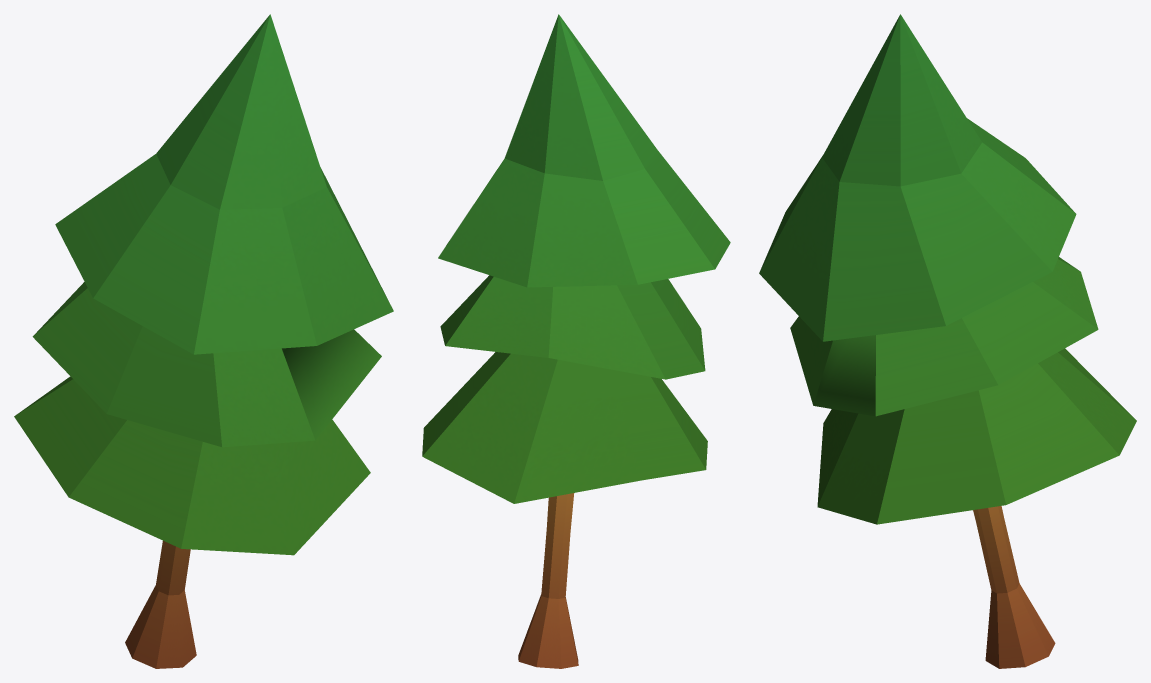
The model's file is Tree.fbx.
3 views of the same model, side by side, from view 1: azimuth 30°, elevation 25°; view 2: azimuth 150°, elevation 25°; view 3: azimuth 270°, elevation 25° (orthographic). The views are drawn at different scales.
Visible parts, largest first — view 1: Tree_04_Polybrush_Clone_; view 2: Tree_04_Polybrush_Clone_; view 3: Tree_04_Polybrush_Clone_.
Part boxes in pixels (x1,y1,x2,y2): Tree_04_Polybrush_Clone_: (14, 14, 393, 668); Tree_04_Polybrush_Clone_: (422, 14, 730, 668); Tree_04_Polybrush_Clone_: (759, 14, 1136, 668).
Bounding box in the file's own units: 174 × 392 × 201.
1 material, 1 textured.
